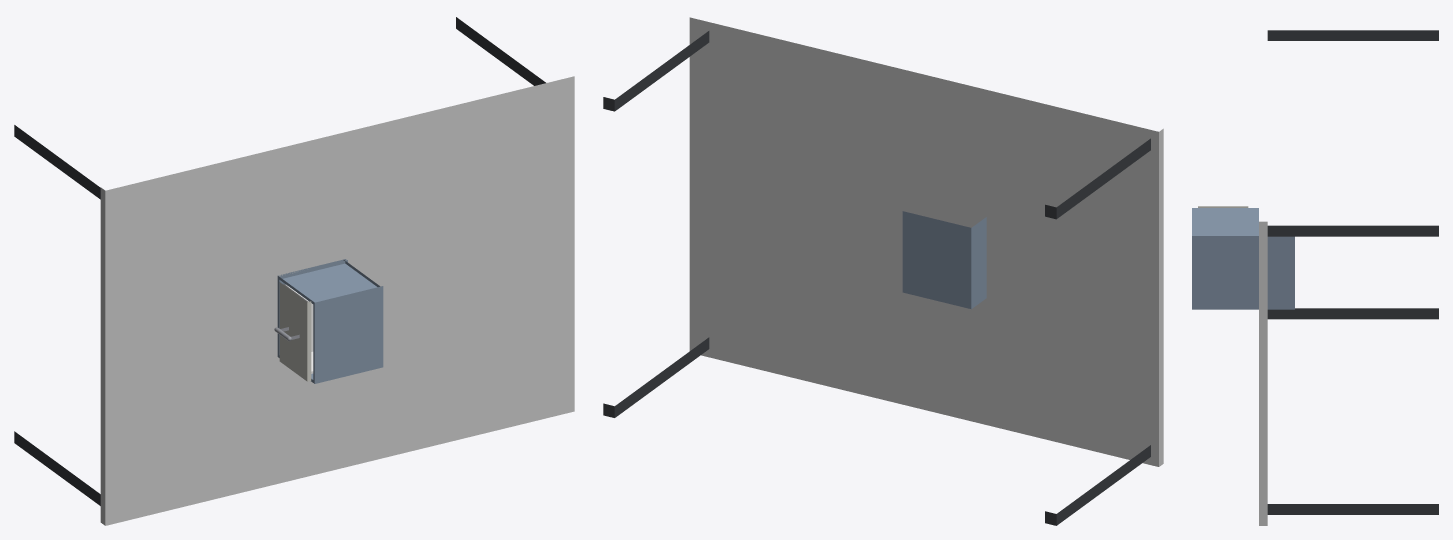
Rendered from t2_21453bca8e.glb.
3 views of the same model, side by side, from view 1: azimuth 30°, elevation 25°; view 2: azimuth 150°, elevation 25°; view 3: azimuth 270°, elevation 25° (orthographic). The views are drawn at different scales.
Visible parts, largest first — view 1: s0, s1, s2; view 2: s0, s1; view 3: s0, s1.
Boxes of the visible parts, left/top/right/bottom form: s0: left=14, top=17, right=574, bottom=525; s1: left=277, top=259, right=383, bottom=383; s2: left=274, top=282, right=313, bottom=381; s0: left=603, top=17, right=1163, bottom=525; s1: left=902, top=211, right=986, bottom=309; s0: left=1259, top=30, right=1438, bottom=525; s1: left=1192, top=208, right=1294, bottom=309.
Size of the model in its own units: 2.05 by 1.4 by 1.03.
